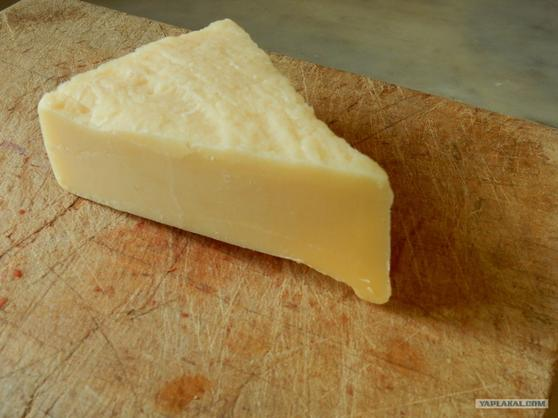cheese: (35, 18, 393, 306)
